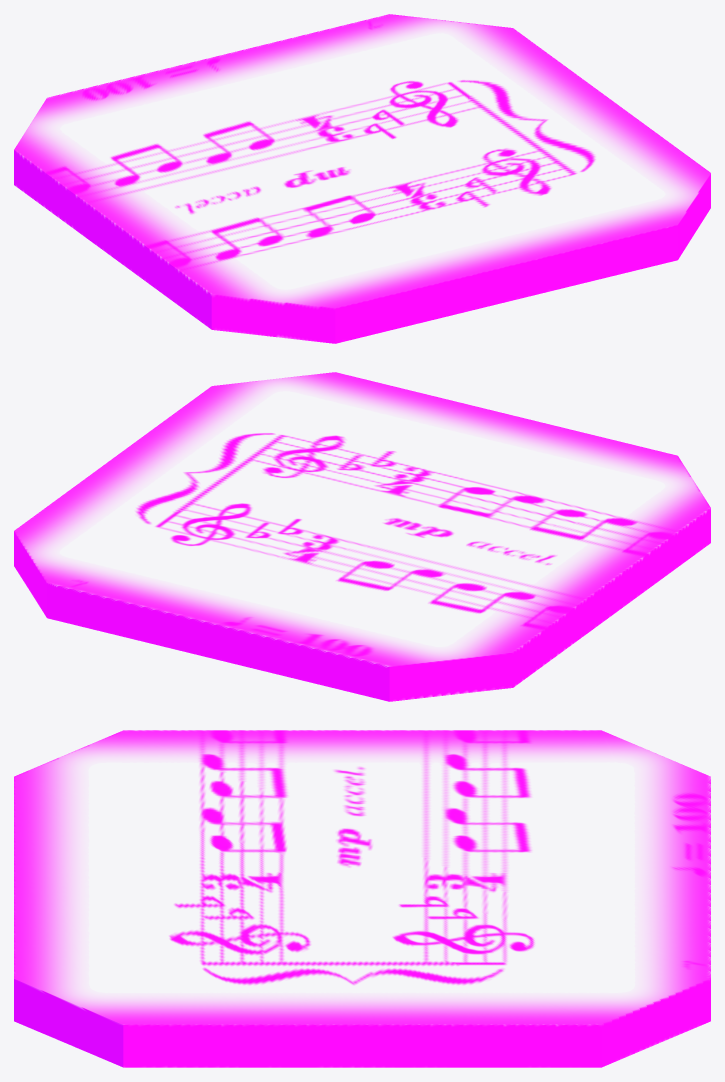
File: platform_purple1.glb
The picture shows the model from 3 angles, top to bottom: view 1: azimuth 30°, elevation 25°; view 2: azimuth 150°, elevation 25°; view 3: azimuth 270°, elevation 25°; orthographic projection. The views are drawn at different scales.
Visible parts, largest first — view 1: Plane.002; view 2: Plane.002; view 3: Plane.002.
Part boxes in pixels (left/top/right/bottom): Plane.002: left=14, top=14, right=710, bottom=343; Plane.002: left=14, top=372, right=710, bottom=701; Plane.002: left=14, top=730, right=710, bottom=1067.
Size of what is drawn, in the model's own units: 5 by 0.3369 by 5.
1 material, 1 textured.
